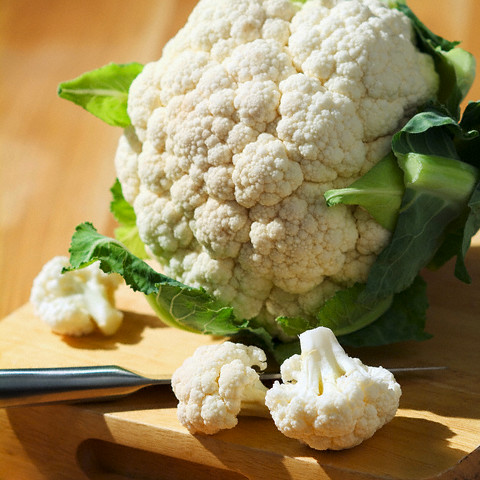cauliflower: (55, 2, 477, 340), (266, 327, 400, 452), (164, 339, 273, 444), (32, 255, 126, 344)
